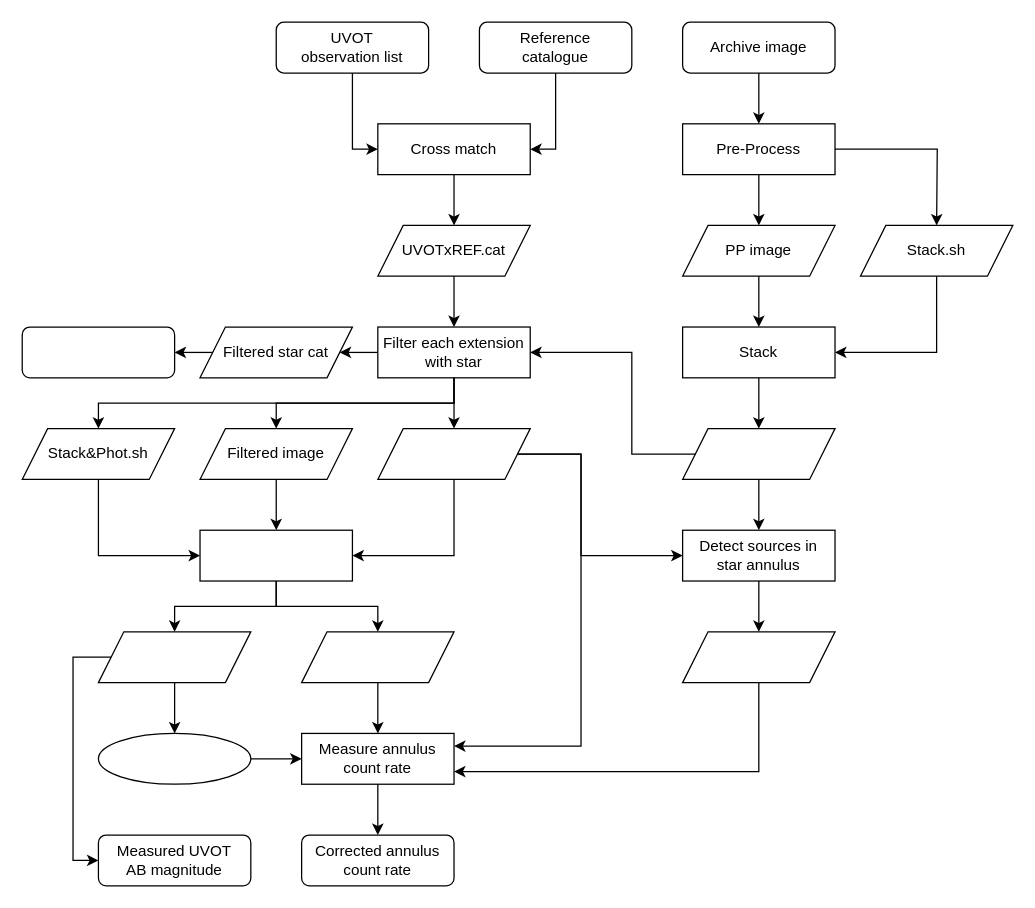
Image size: 1035x908. Some labels were removed from this diagram. The shapes that lost their labels are listed below. From the top down, each one's centre as x and y in pixels, then its label:
At (x=98, y=352): "Derived UVOT AB magnitude".
At (x=453, y=453): "ds9 reg of filtered star".
At (x=758, y=453): "Stacked PP image".
At (x=275, y=555): "Stack and make photometry".
At (x=174, y=657): "Photometry fits table".
At (x=377, y=657): "Stacked filtered image".
At (x=758, y=657): "Mask file of filtered star".
At (x=174, y=758): "LSS and SEN".
